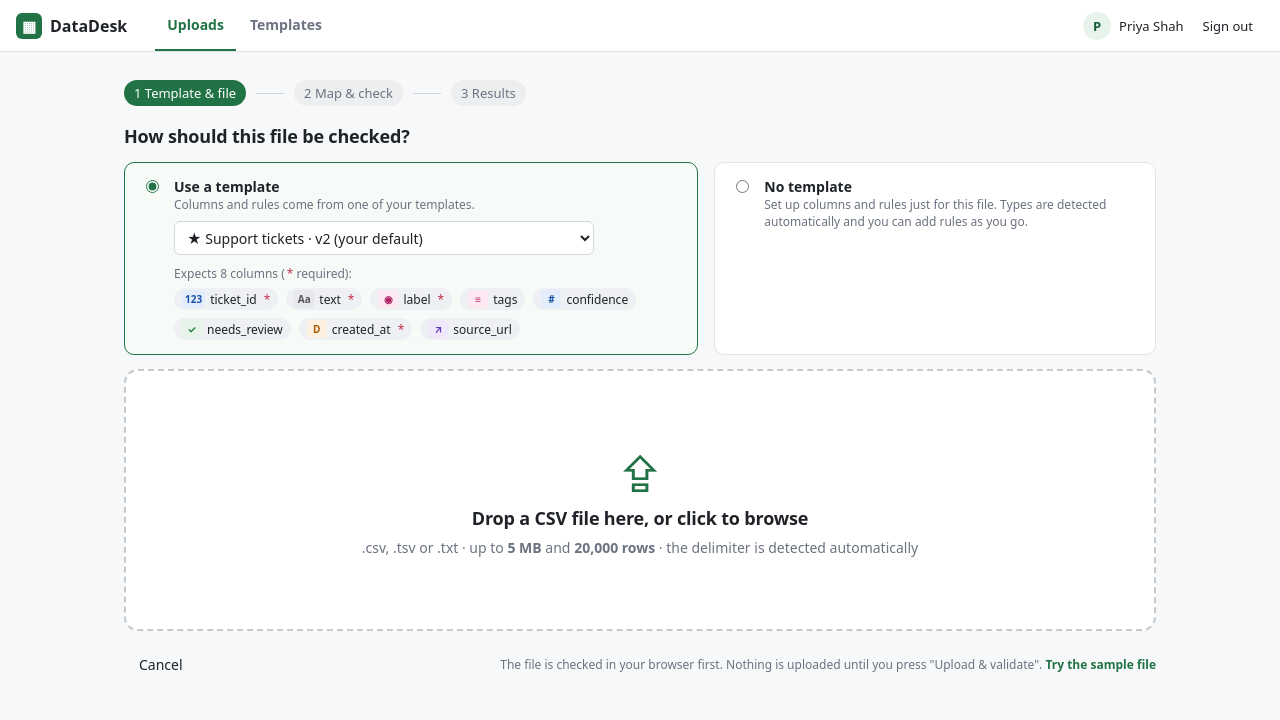
Scenario: UploadPage: sample file › "Try the sample file" loads the built-in example
Expected: the text "Expects 8 columns (* required):" is shown, [174,265,352,282]
Click the button "Try the sample file".
click(1101, 664)  # box [1045,656,1156,672]
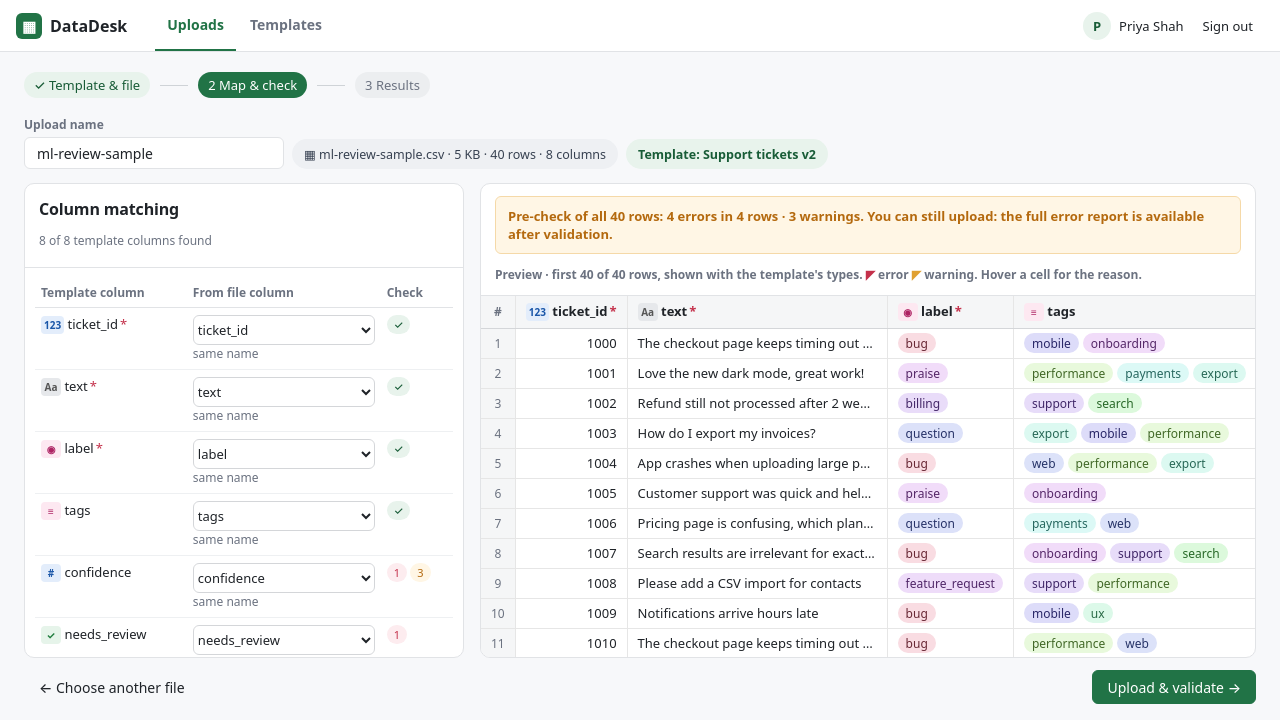
Result: the element with test id "precheck" shows "Pre-check of all 40 rows" at [495,196,1241,254]
Result: the text "▦ ml-review-sample.csv · 5 KB · 40 rows · 8 columns" is shown at [292,139,618,169]
